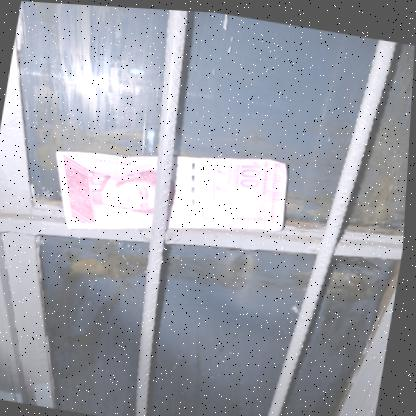one_hundred-front-vef: (45, 123, 296, 261)
